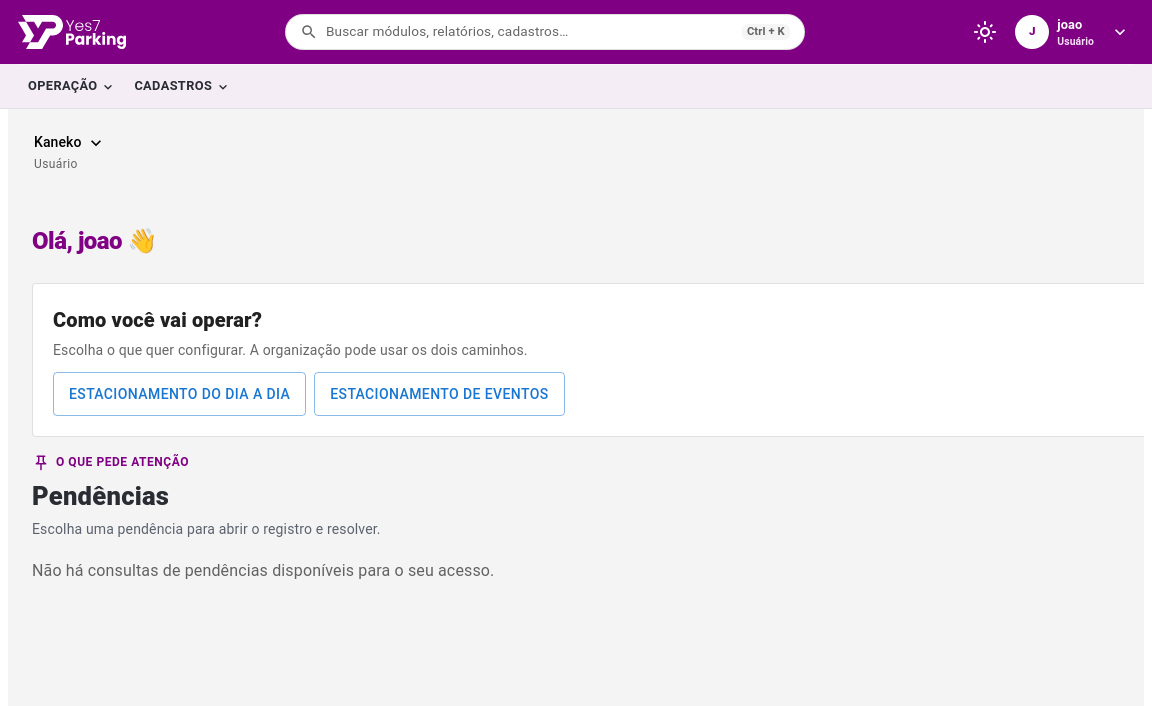
Scenario: home do Hub › separa o início do dia a dia e o de eventos, sem exigir evento para usar o pátio
The width and height of the screenshot is (1152, 706).
Click the button "Estacionamento do dia a dia" at (180, 394), box [53, 372, 306, 416]
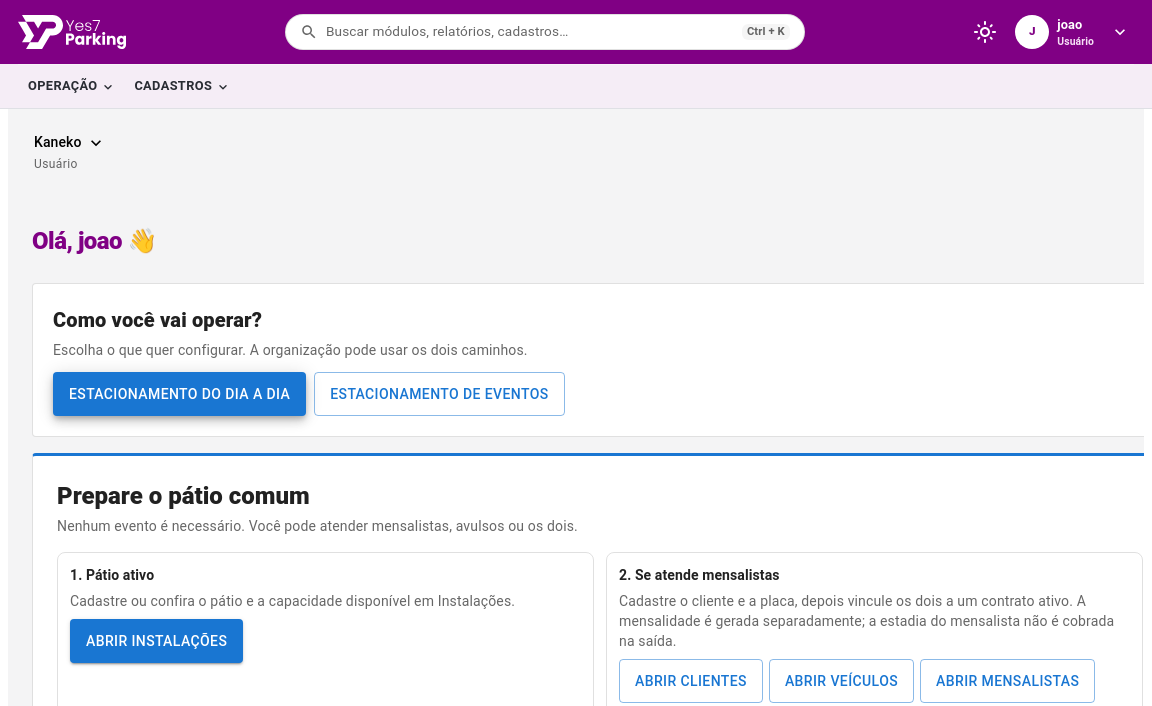
Expected: the link "Criar primeiro evento" is not shown
Click the button "Estacionamento de eventos" at (439, 394), box [314, 372, 565, 416]
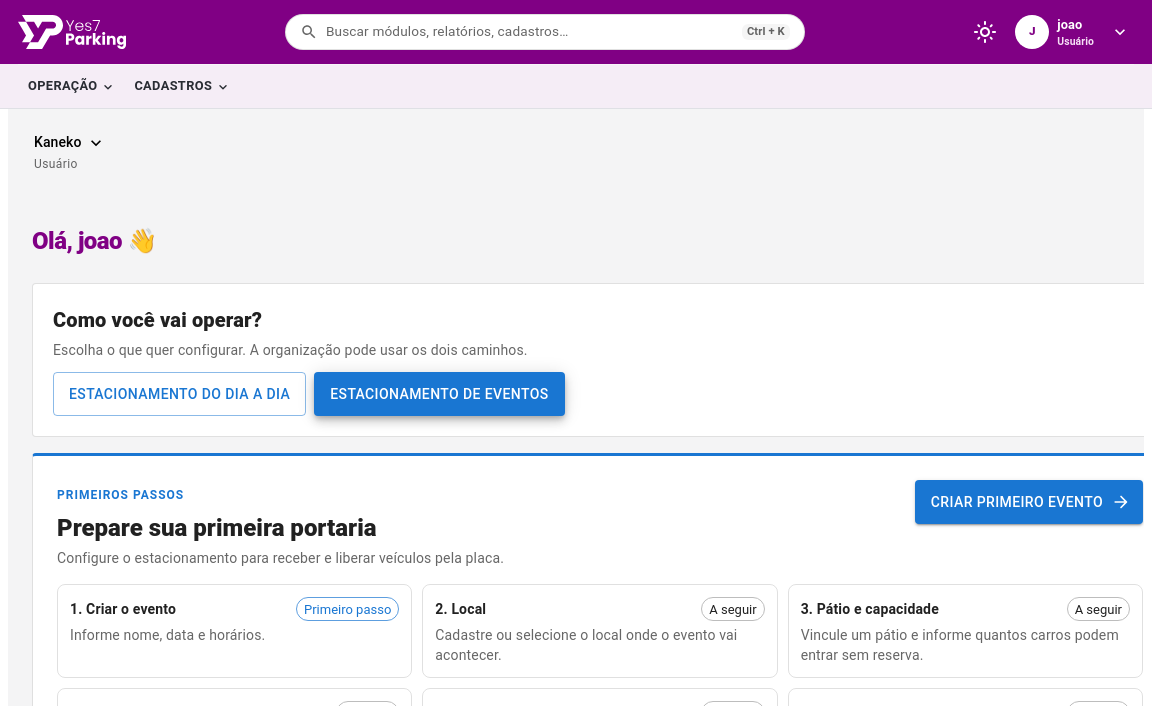
Result: the heading "Prepare o pátio comum" is gone
